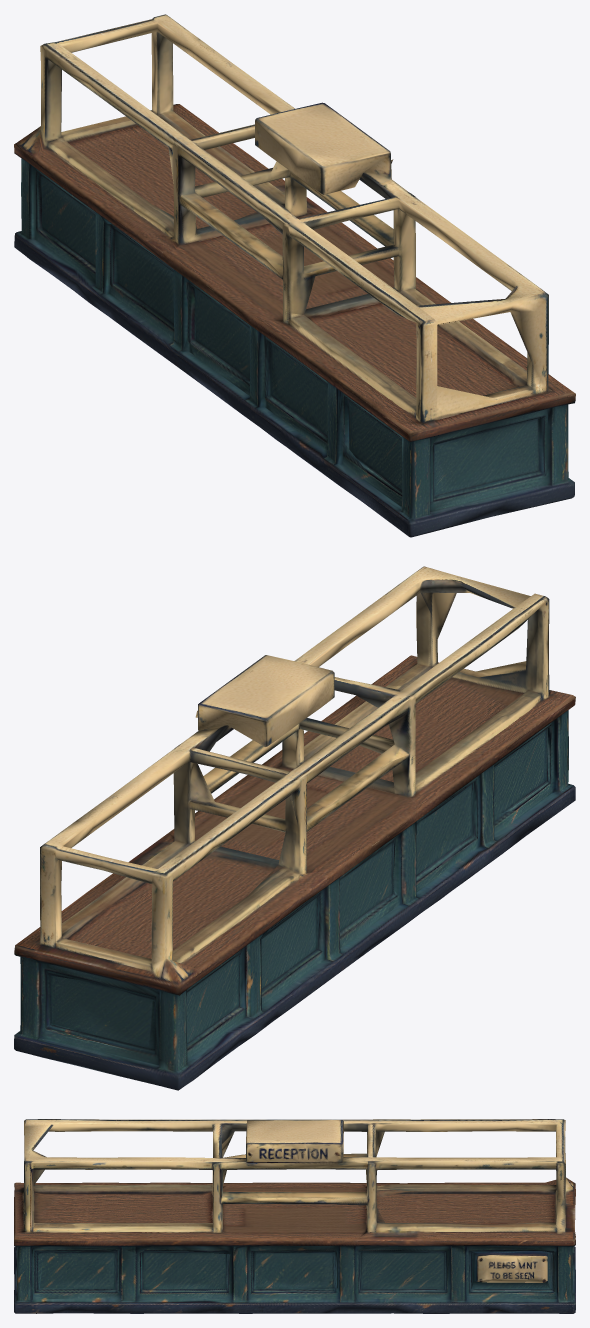
File: OfficeReceptionCounter.fbx
The picture shows the model from 3 angles, top to bottom: view 1: azimuth 30°, elevation 25°; view 2: azimuth 150°, elevation 25°; view 3: azimuth 270°, elevation 25°; orthographic projection. The views are drawn at different scales.
Parts seen in each view (by area): view 1: tripo_node_85fd9bfe-2fce-4b7a-827a-a7629e14abac; view 2: tripo_node_85fd9bfe-2fce-4b7a-827a-a7629e14abac; view 3: tripo_node_85fd9bfe-2fce-4b7a-827a-a7629e14abac.
Part boxes in pixels (x1,y1,x2,y2): tripo_node_85fd9bfe-2fce-4b7a-827a-a7629e14abac: [14, 14, 575, 537]; tripo_node_85fd9bfe-2fce-4b7a-827a-a7629e14abac: [14, 566, 575, 1090]; tripo_node_85fd9bfe-2fce-4b7a-827a-a7629e14abac: [14, 1119, 575, 1313].
Size of the model in its own units: 24.25 by 32.34 by 100.
Materials: 1 (1 with a texture image).
